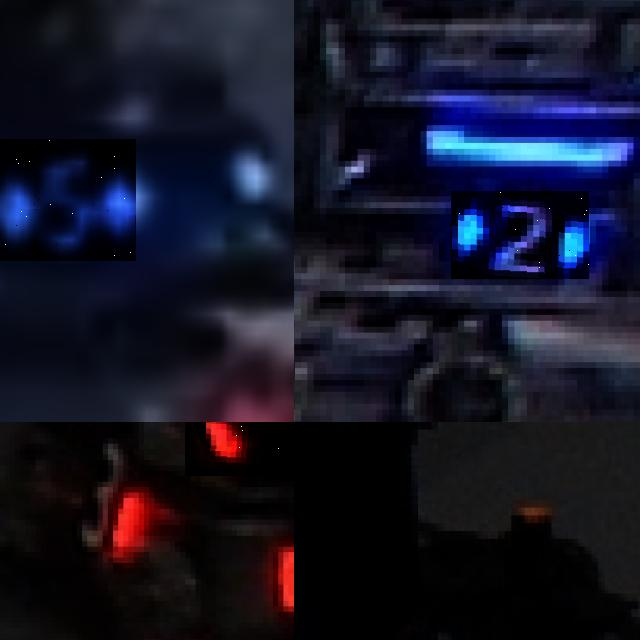B2: (452, 191, 590, 279)
B5: (0, 139, 136, 261)
R3: (72, 433, 159, 579)
